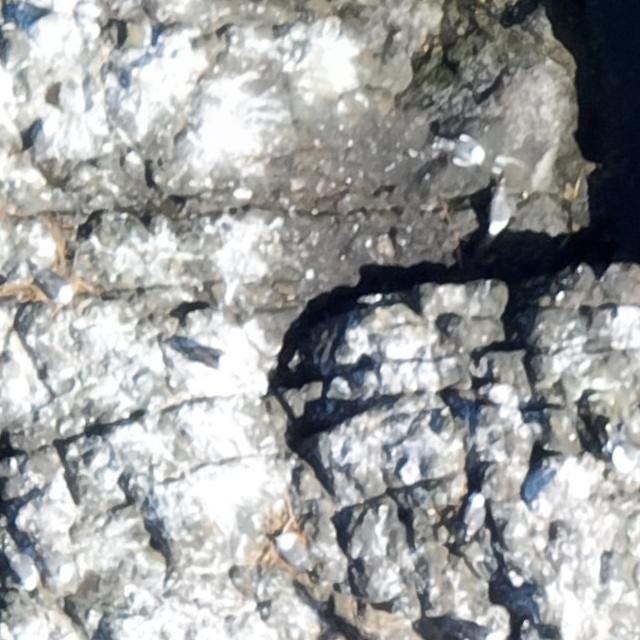umineko: (33, 534, 76, 584), (8, 542, 44, 592), (441, 132, 491, 166), (472, 375, 522, 407), (28, 119, 58, 169), (466, 490, 489, 540), (604, 564, 634, 601), (279, 538, 310, 570), (39, 276, 71, 303), (489, 197, 508, 233), (192, 350, 225, 369)
